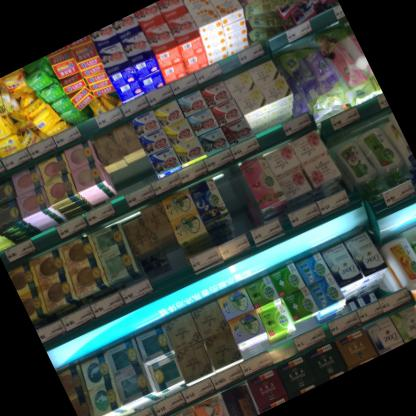empty_space: (210, 164, 267, 242)
